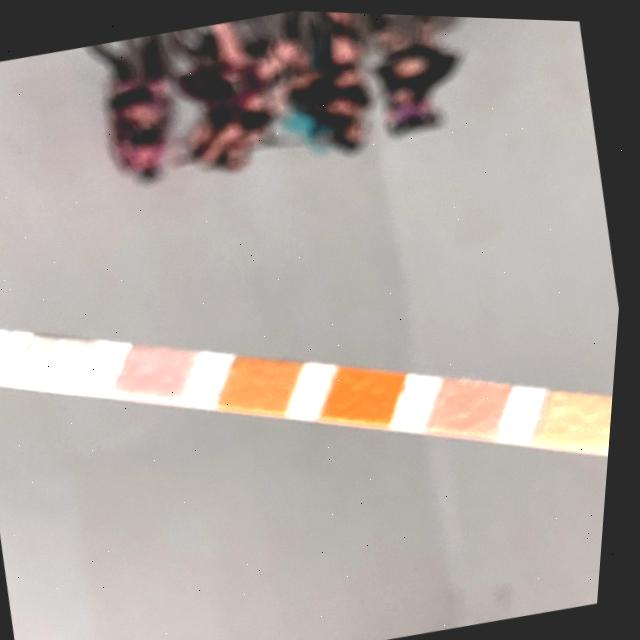Bilirubin: (32, 335, 94, 388)
Blood: (335, 367, 402, 417)
Ketone: (128, 344, 190, 393)
Protein: (549, 386, 616, 441)
SpGravity: (235, 356, 293, 406)
pH: (438, 376, 505, 429)
